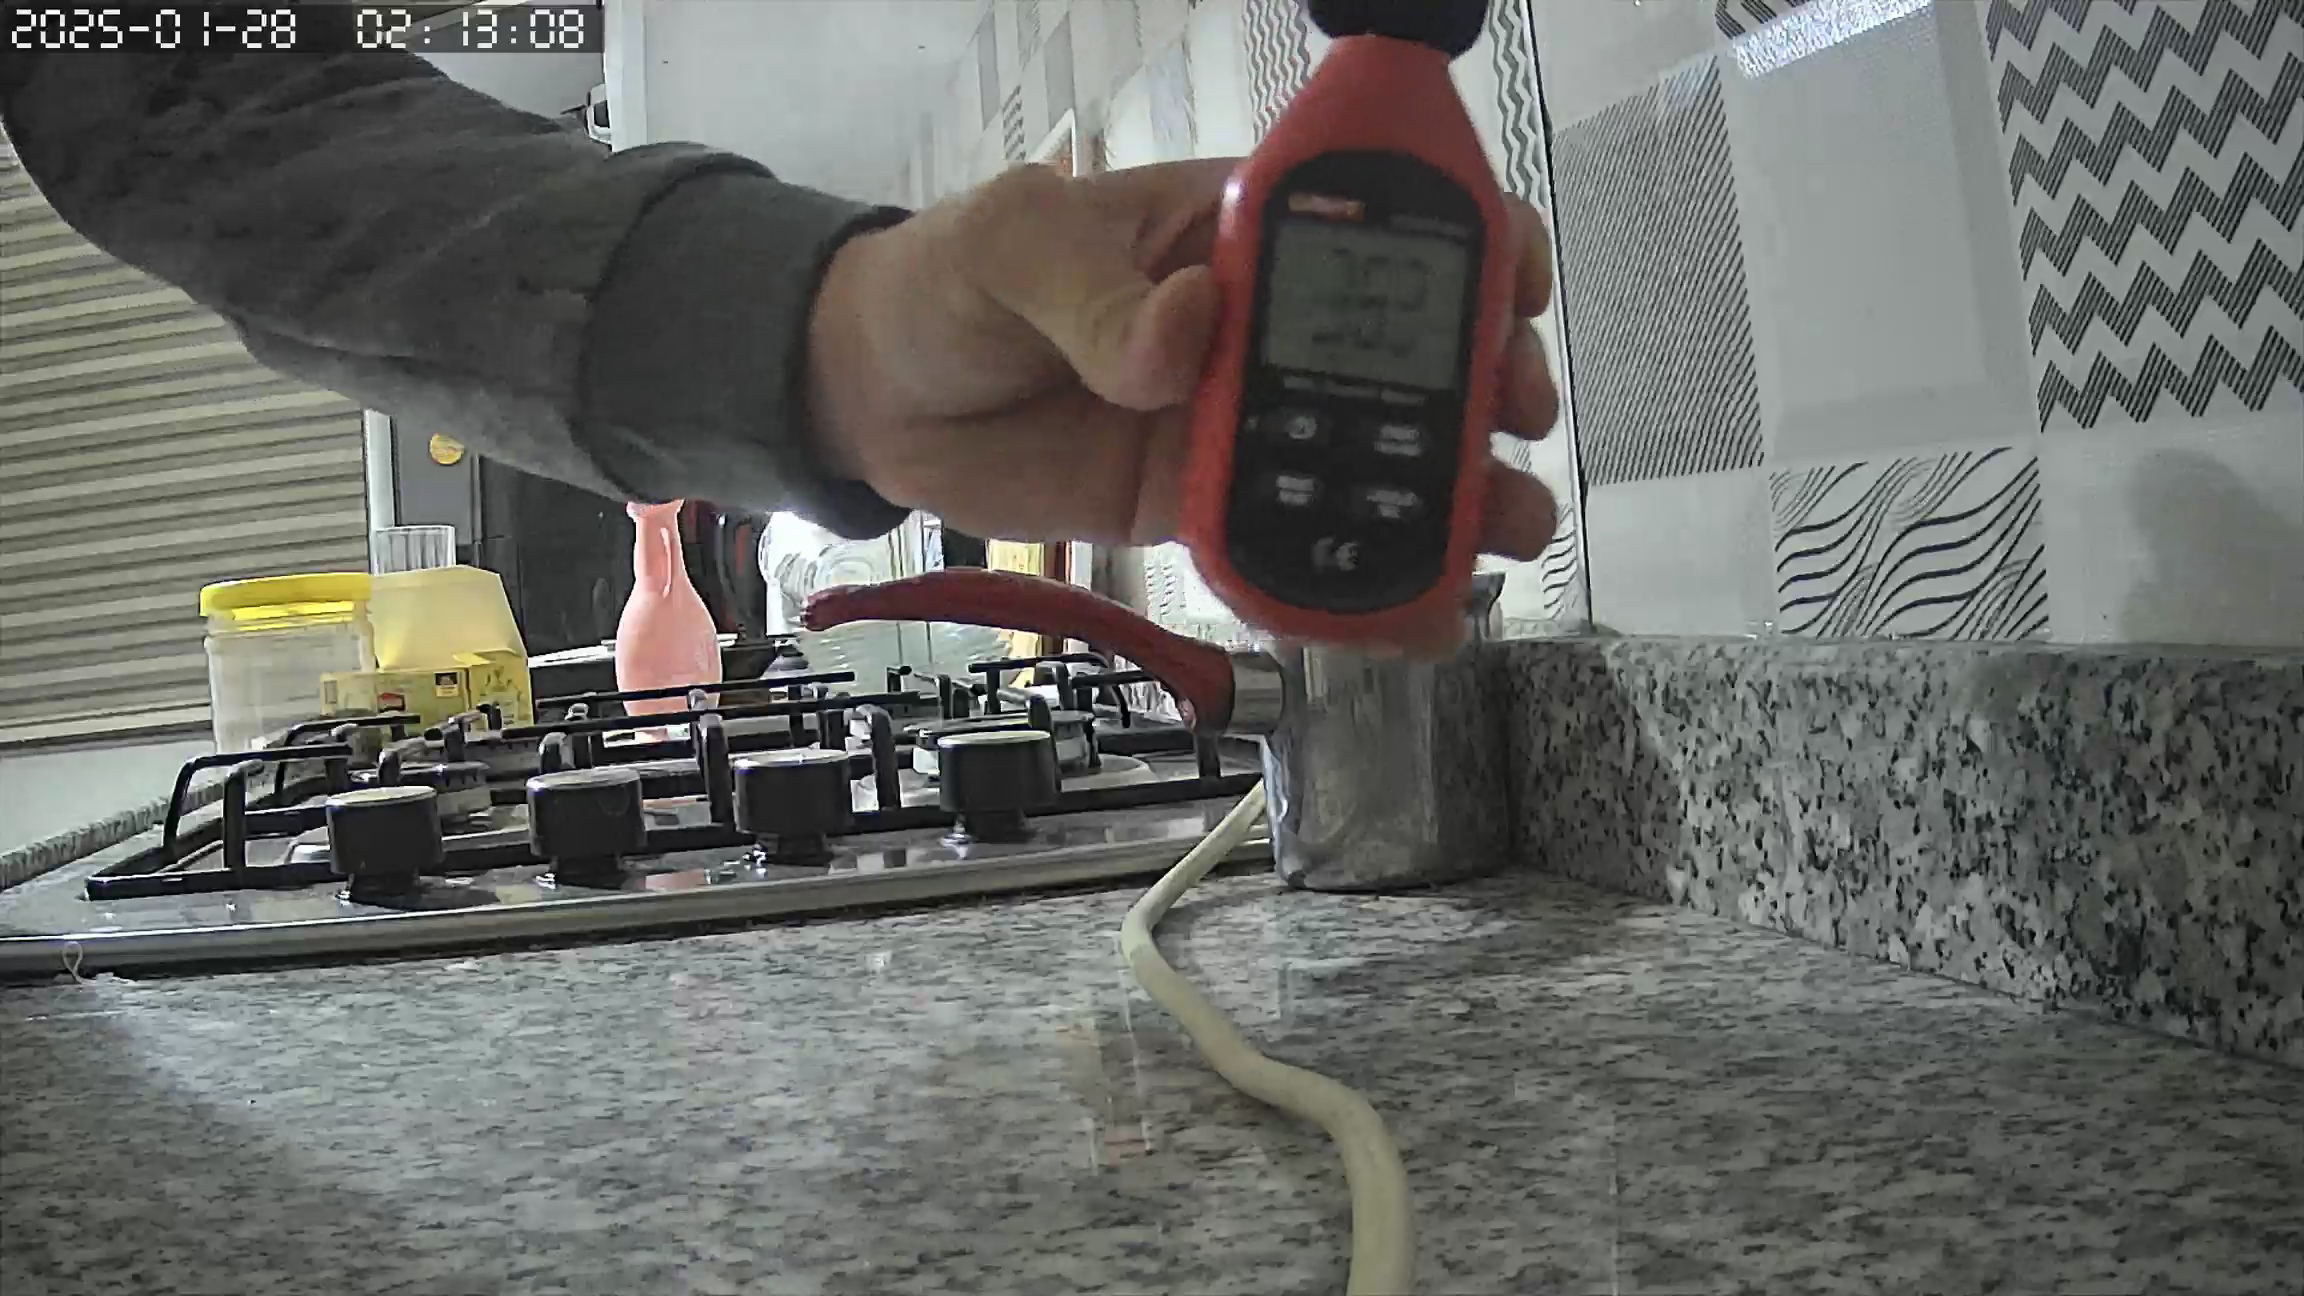screen: (1263, 215, 1465, 391)
